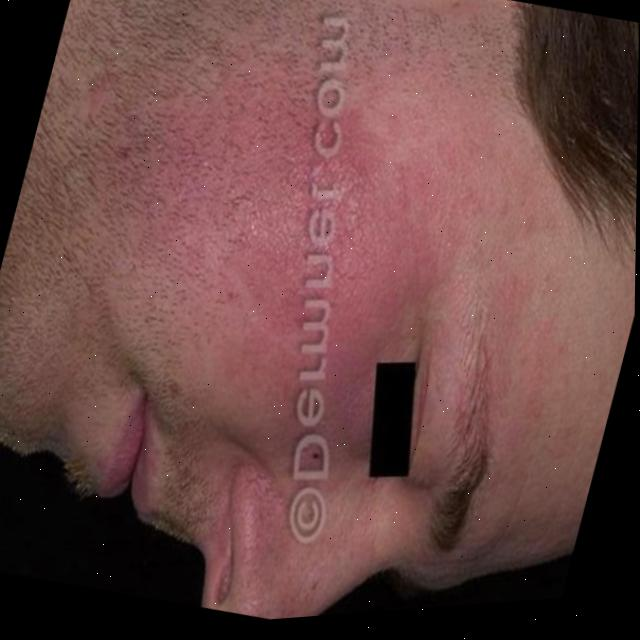Eczema: (192, 112, 436, 408)
